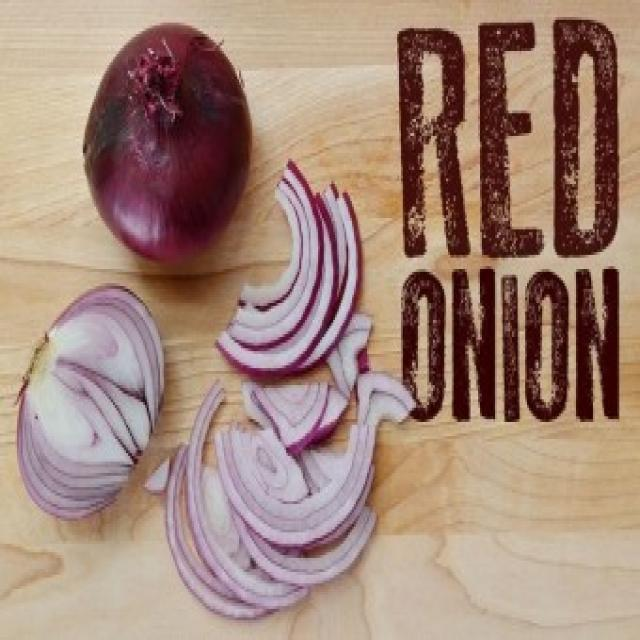onion: (70, 8, 240, 260), (32, 290, 172, 524)
